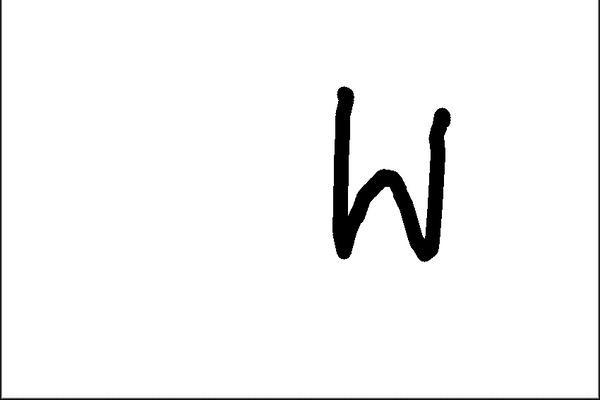w: (313, 74, 464, 277)
